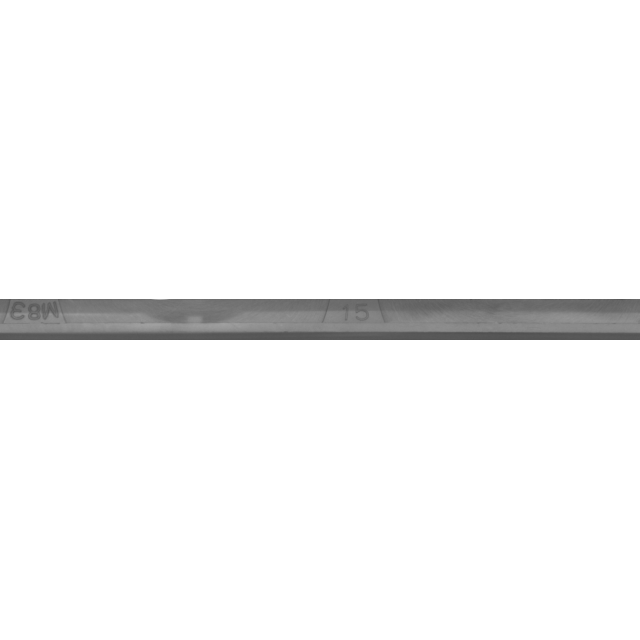mohao: (0, 270, 130, 370)
xuehao: (252, 270, 452, 370)
